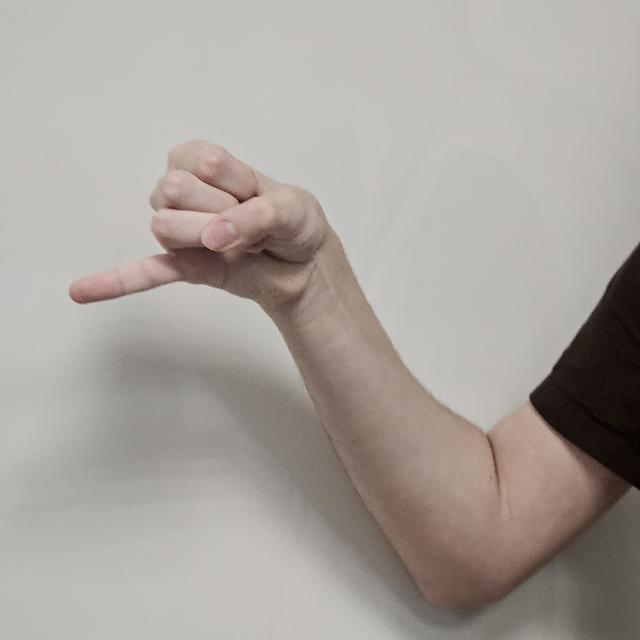Esquerda: (64, 132, 328, 354)
